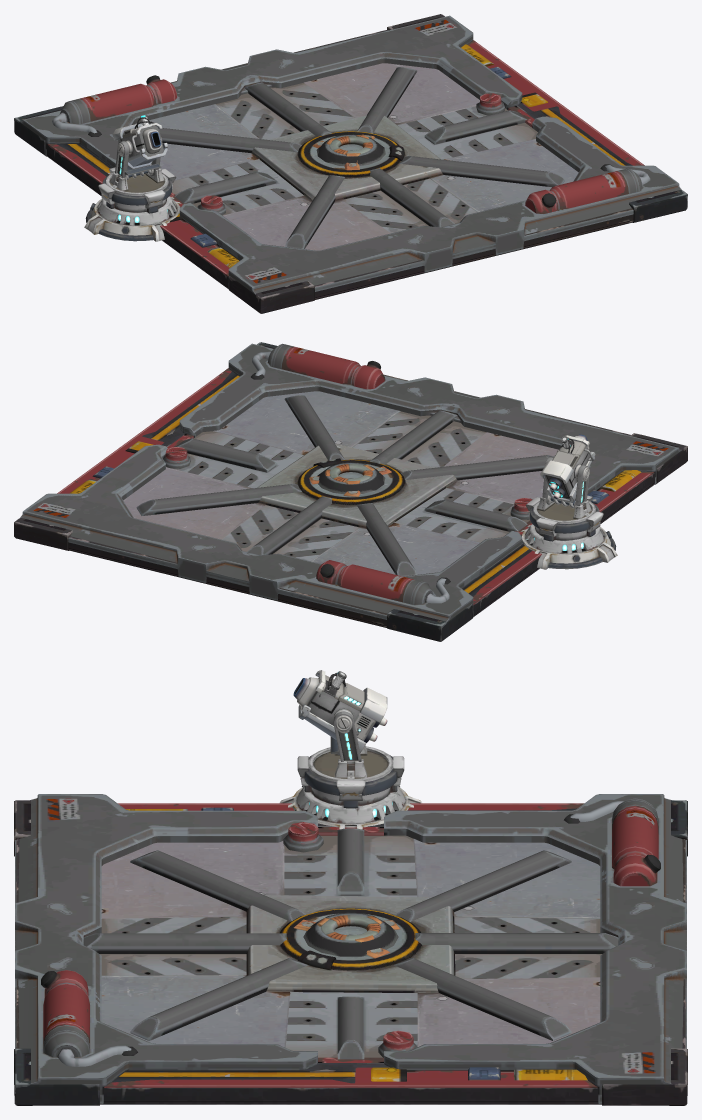
The model's file is traps.glb.
3 views of the same model, one above another, from view 1: azimuth 30°, elevation 25°; view 2: azimuth 150°, elevation 25°; view 3: azimuth 270°, elevation 25° (orthographic). The views are drawn at different scales.
Visible parts, largest first — view 1: SM_Flame_Grill_Trap, S_Floor_HealthSquare, Patrol_Ward_Trap_core, Patrol_Ward_Trap_turrethead, Patrol_Ward_Trap_base; view 2: SM_Flame_Grill_Trap, S_Floor_HealthSquare, Patrol_Ward_Trap_core, Patrol_Ward_Trap_turrethead, Patrol_Ward_Trap_base; view 3: SM_Flame_Grill_Trap, S_Floor_HealthSquare, Patrol_Ward_Trap_core, Patrol_Ward_Trap_turrethead, Patrol_Ward_Trap_base.
Part boxes in pixels (x1,y1,x2,y2): SM_Flame_Grill_Trap: (20, 15, 687, 294); S_Floor_HealthSquare: (14, 14, 687, 313); Patrol_Ward_Trap_core: (97, 137, 176, 225); Patrol_Ward_Trap_turrethead: (112, 117, 167, 170); Patrol_Ward_Trap_base: (84, 197, 180, 241); SM_Flame_Grill_Trap: (19, 343, 681, 632); S_Floor_HealthSquare: (14, 342, 687, 641); Patrol_Ward_Trap_core: (525, 457, 604, 553); Patrol_Ward_Trap_turrethead: (540, 434, 595, 502); Patrol_Ward_Trap_base: (521, 525, 617, 569); SM_Flame_Grill_Trap: (15, 794, 686, 1103); S_Floor_HealthSquare: (14, 800, 687, 1105); Patrol_Ward_Trap_core: (296, 711, 405, 823); Patrol_Ward_Trap_turrethead: (293, 670, 387, 752); Patrol_Ward_Trap_base: (280, 786, 421, 829).
Size of the model in its own units: 1.11 by 0.2498 by 1.
5 materials, 5 textured.
